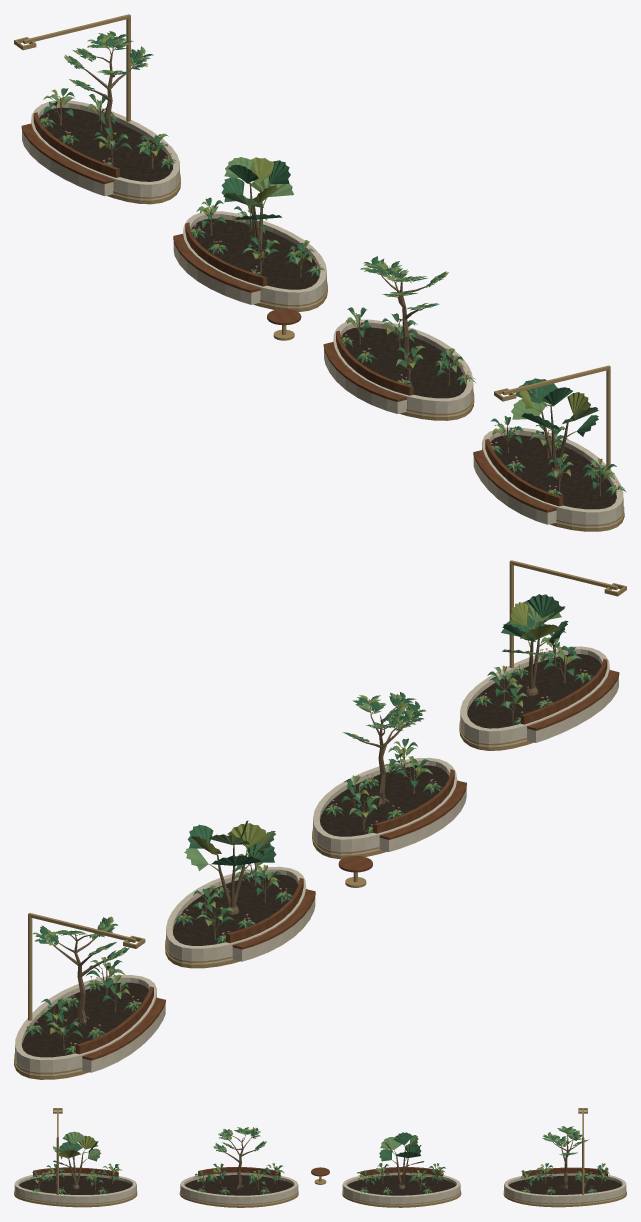
File: G7_Completion_R006_G7C6_D16_ComposedEdge.glb
3 renders of one model, top to bottom at view 1: azimuth 30°, elevation 25°; view 2: azimuth 150°, elevation 25°; view 3: azimuth 270°, elevation 25°, orthographic. The views are drawn at different scales.
Parts seen in each view (by area): view 1: G7C6_D16_ComposedEdge_G7C6_soil_solid_planter, G7C6_D16_ComposedEdge_G7C6_stone_solid_planter, G7C6_D16_ComposedEdge_G7C6_wood_solid_furniture, G7C6_D16_ComposedEdge_G7C6_stone_solid_furniture, G7C6_D16_ComposedEdge_ASTRAEA_botanical_leaf_jade.001_visual, G7C6_D16_ComposedEdge_ASTRAEA_botanical_leaf_jade.003_visual, G7C6_D16_ComposedEdge_G7C6_metal_solid_fixture, G7C6_D16_ComposedEdge_G7C6_metal_solid_planter, G7C6_D16_ComposedEdge_ASTRAEA_botanical_leaf_jade_visual_fol, G7C6_D16_ComposedEdge_ASTRAEA_botanical_leaf_sage.003_visual, G7C6_D16_ComposedEdge_ASTRAEA_botanical_leaf_sage.001_visual, G7C6_D16_ComposedEdge_ASTRAEA_botanical_bark_solid_tree_bark (+6 smaller); view 2: G7C6_D16_ComposedEdge_G7C6_soil_solid_planter, G7C6_D16_ComposedEdge_G7C6_stone_solid_planter, G7C6_D16_ComposedEdge_G7C6_wood_solid_furniture, G7C6_D16_ComposedEdge_G7C6_stone_solid_furniture, G7C6_D16_ComposedEdge_ASTRAEA_botanical_leaf_jade.001_visual, G7C6_D16_ComposedEdge_G7C6_metal_solid_fixture, G7C6_D16_ComposedEdge_ASTRAEA_botanical_leaf_jade.003_visual, G7C6_D16_ComposedEdge_G7C6_metal_solid_planter, G7C6_D16_ComposedEdge_ASTRAEA_botanical_bark_solid_tree_bark, G7C6_D16_ComposedEdge_ASTRAEA_botanical_leaf_jade_visual_fol, G7C6_D16_ComposedEdge_ASTRAEA_botanical_leaf_olive.003_visua, G7C6_D16_ComposedEdge_ASTRAEA_botanical_leaf_sage.001_visual (+6 smaller); view 3: G7C6_D16_ComposedEdge_G7C6_stone_solid_planter, G7C6_D16_ComposedEdge_G7C6_soil_solid_planter, G7C6_D16_ComposedEdge_G7C6_metal_solid_planter, G7C6_D16_ComposedEdge_G7C6_wood_solid_furniture, G7C6_D16_ComposedEdge_ASTRAEA_botanical_leaf_jade.001_visual, G7C6_D16_ComposedEdge_ASTRAEA_botanical_leaf_jade.003_visual, G7C6_D16_ComposedEdge_ASTRAEA_botanical_leaf_jade_visual_fol, G7C6_D16_ComposedEdge_ASTRAEA_botanical_leaf_sage.003_visual, G7C6_D16_ComposedEdge_ASTRAEA_botanical_bark_solid_tree_bark, G7C6_D16_ComposedEdge_G7C6_metal_solid_fixture, G7C6_D16_ComposedEdge_ASTRAEA_botanical_leaf_sage.001_visual, G7C6_D16_ComposedEdge_ASTRAEA_botanical_leaf_jade.002_visual (+8 smaller).
Boxes of the visible parts, x1=… form: G7C6_D16_ComposedEdge_G7C6_soil_solid_planter: x1=39, y1=107, x2=616, y2=509; G7C6_D16_ComposedEdge_G7C6_stone_solid_planter: x1=31, y1=100, x2=623, y2=527; G7C6_D16_ComposedEdge_G7C6_wood_solid_furniture: x1=21, y1=112, x2=563, y2=512; G7C6_D16_ComposedEdge_G7C6_stone_solid_furniture: x1=22, y1=130, x2=556, y2=524; G7C6_D16_ComposedEdge_ASTRAEA_botanical_leaf_jade.001_visual: x1=43, y1=88, x2=616, y2=489; G7C6_D16_ComposedEdge_ASTRAEA_botanical_leaf_jade.003_visual: x1=221, y1=160, x2=598, y2=436; G7C6_D16_ComposedEdge_G7C6_metal_solid_fixture: x1=14, y1=14, x2=610, y2=470; G7C6_D16_ComposedEdge_G7C6_metal_solid_planter: x1=107, y1=174, x2=624, y2=531; G7C6_D16_ComposedEdge_ASTRAEA_botanical_leaf_jade_visual_fol: x1=67, y1=31, x2=446, y2=310; G7C6_D16_ComposedEdge_ASTRAEA_botanical_leaf_sage.003_visual: x1=223, y1=157, x2=598, y2=423; G7C6_D16_ComposedEdge_ASTRAEA_botanical_leaf_sage.001_visual: x1=43, y1=94, x2=615, y2=479; G7C6_D16_ComposedEdge_ASTRAEA_botanical_bark_solid_tree_bark: x1=67, y1=36, x2=443, y2=367; G7C6_D16_ComposedEdge_G7C6_soil_solid_planter: x1=22, y1=654, x2=601, y2=1057; G7C6_D16_ComposedEdge_G7C6_stone_solid_planter: x1=15, y1=646, x2=609, y2=1075; G7C6_D16_ComposedEdge_G7C6_wood_solid_furniture: x1=75, y1=658, x2=619, y2=1060; G7C6_D16_ComposedEdge_G7C6_stone_solid_furniture: x1=82, y1=676, x2=618, y2=1072; G7C6_D16_ComposedEdge_ASTRAEA_botanical_leaf_jade.001_visual: x1=41, y1=631, x2=577, y2=1036; G7C6_D16_ComposedEdge_G7C6_metal_solid_fixture: x1=28, y1=560, x2=626, y2=1020; G7C6_D16_ComposedEdge_ASTRAEA_botanical_leaf_jade.003_visual: x1=187, y1=594, x2=568, y2=865; G7C6_D16_ComposedEdge_G7C6_metal_solid_planter: x1=14, y1=720, x2=533, y2=1079; G7C6_D16_ComposedEdge_ASTRAEA_botanical_bark_solid_tree_bark: x1=39, y1=699, x2=420, y2=1024; G7C6_D16_ComposedEdge_ASTRAEA_botanical_leaf_jade_visual_fol: x1=36, y1=692, x2=423, y2=962; G7C6_D16_ComposedEdge_ASTRAEA_botanical_leaf_olive.003_visua: x1=191, y1=602, x2=560, y2=871; G7C6_D16_ComposedEdge_ASTRAEA_botanical_leaf_sage.001_visual: x1=40, y1=637, x2=581, y2=1032; G7C6_D16_ComposedEdge_G7C6_stone_solid_planter: x1=14, y1=1172, x2=626, y2=1205; G7C6_D16_ComposedEdge_G7C6_soil_solid_planter: x1=19, y1=1175, x2=621, y2=1195; G7C6_D16_ComposedEdge_G7C6_metal_solid_planter: x1=14, y1=1190, x2=626, y2=1207; G7C6_D16_ComposedEdge_G7C6_wood_solid_furniture: x1=33, y1=1167, x2=607, y2=1177; G7C6_D16_ComposedEdge_ASTRAEA_botanical_leaf_jade.001_visual: x1=32, y1=1163, x2=608, y2=1186; G7C6_D16_ComposedEdge_ASTRAEA_botanical_leaf_jade.003_visual: x1=53, y1=1132, x2=421, y2=1168; G7C6_D16_ComposedEdge_ASTRAEA_botanical_leaf_jade_visual_fol: x1=213, y1=1126, x2=585, y2=1155; G7C6_D16_ComposedEdge_ASTRAEA_botanical_leaf_sage.003_visual: x1=53, y1=1131, x2=423, y2=1167; G7C6_D16_ComposedEdge_ASTRAEA_botanical_bark_solid_tree_bark: x1=220, y1=1133, x2=577, y2=1189; G7C6_D16_ComposedEdge_G7C6_metal_solid_fixture: x1=53, y1=1108, x2=587, y2=1203; G7C6_D16_ComposedEdge_ASTRAEA_botanical_leaf_sage.001_visual: x1=29, y1=1163, x2=608, y2=1180; G7C6_D16_ComposedEdge_ASTRAEA_botanical_leaf_jade.002_visual: x1=33, y1=1176, x2=609, y2=1195.
Size of the model in its own units: 3.43 by 3.39 by 27.55.
22 materials, 21 textured.
